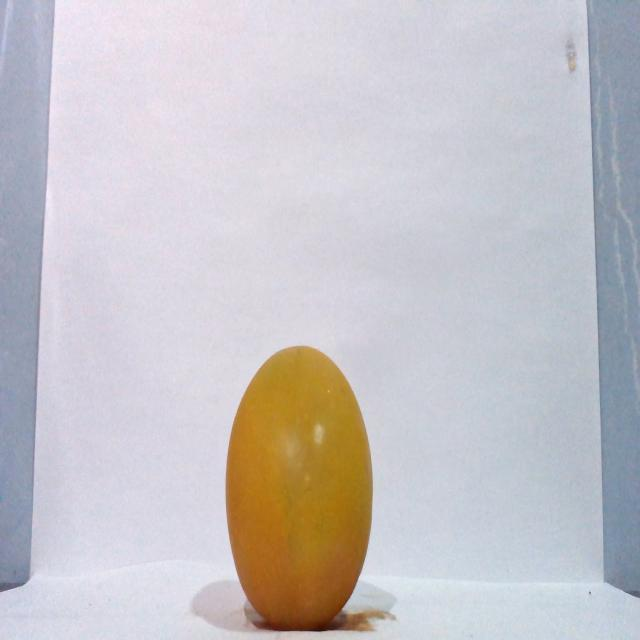Red: (223, 343, 374, 630)
